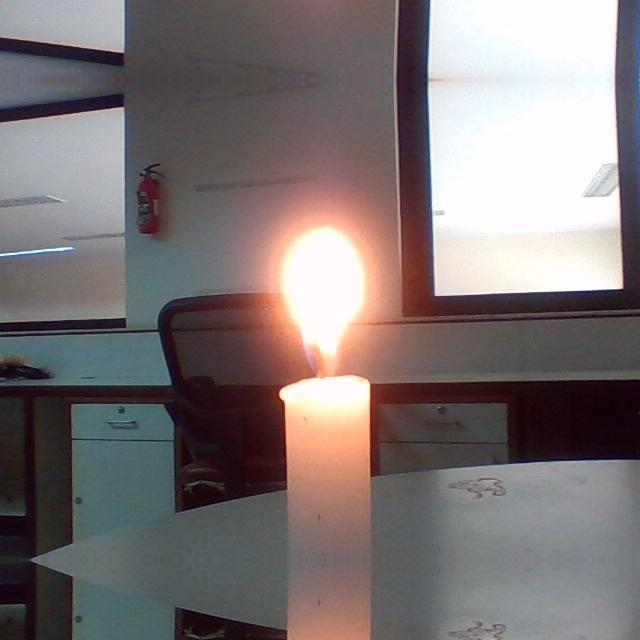smoke: (276, 225, 368, 375)
